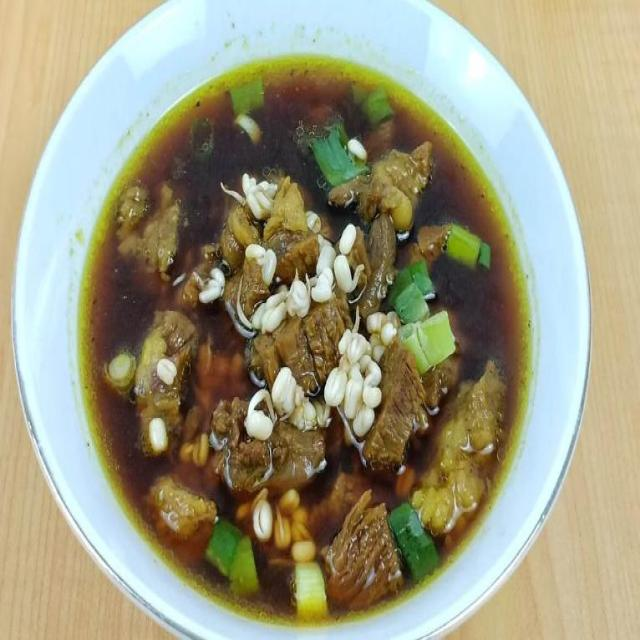Rawon: (87, 108, 506, 574)
